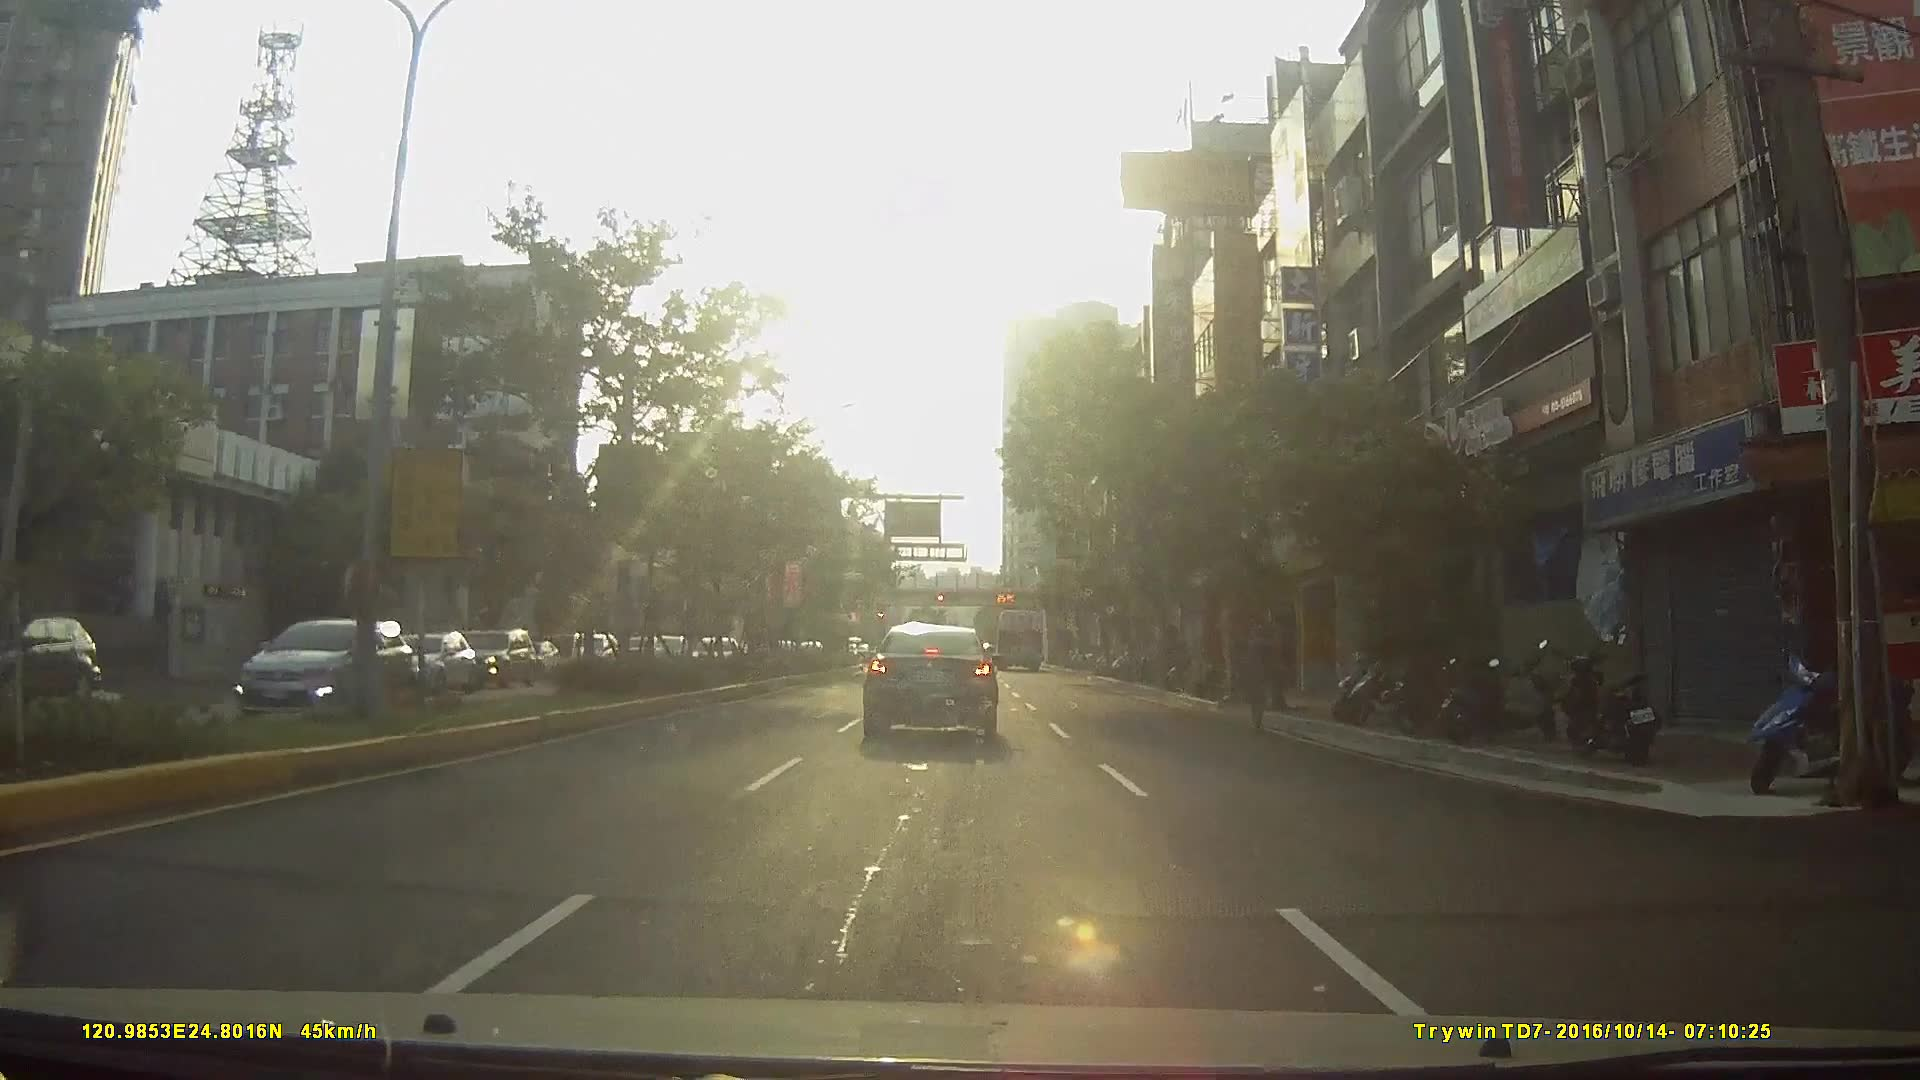pedestrian: (1238, 612, 1282, 727)
vehicle: (216, 603, 421, 721), (864, 620, 1002, 738), (1, 610, 108, 707), (392, 628, 499, 705), (446, 628, 544, 694), (444, 623, 509, 678), (992, 606, 1044, 672)
